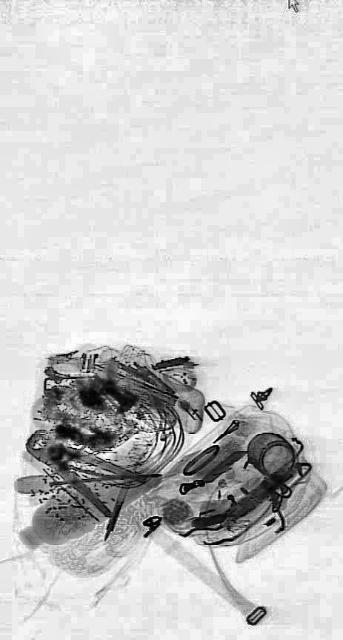Pliers: (22, 398, 144, 534)
